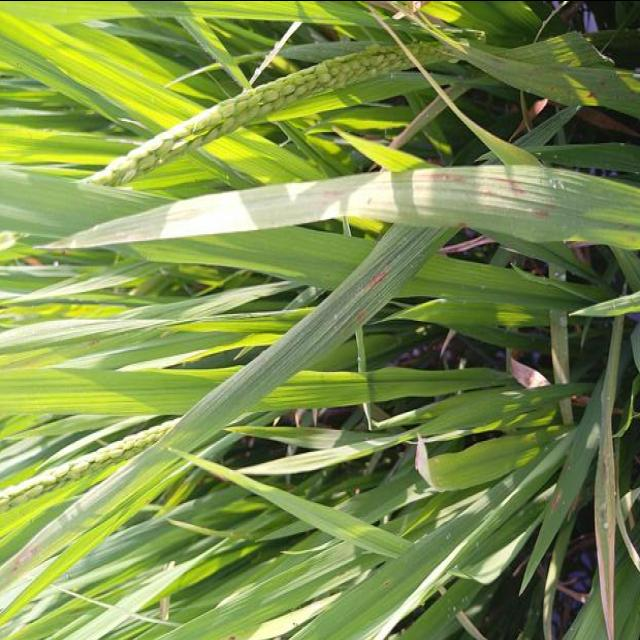Leaf Streak: (72, 174, 381, 240), (595, 396, 617, 640), (393, 0, 434, 21), (491, 179, 533, 197), (426, 170, 471, 186), (369, 270, 388, 288), (354, 308, 369, 324), (534, 208, 548, 217)
